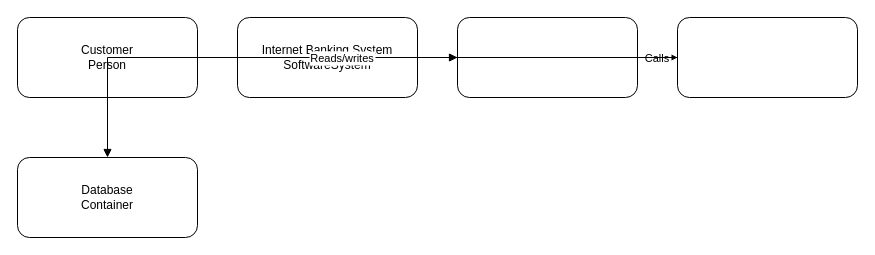
This 875x255 diagram has some shape labels left out. Each missing label, with the centre of its shape:
API Application Container: point (767, 57)
Web Application Container: point (547, 57)
